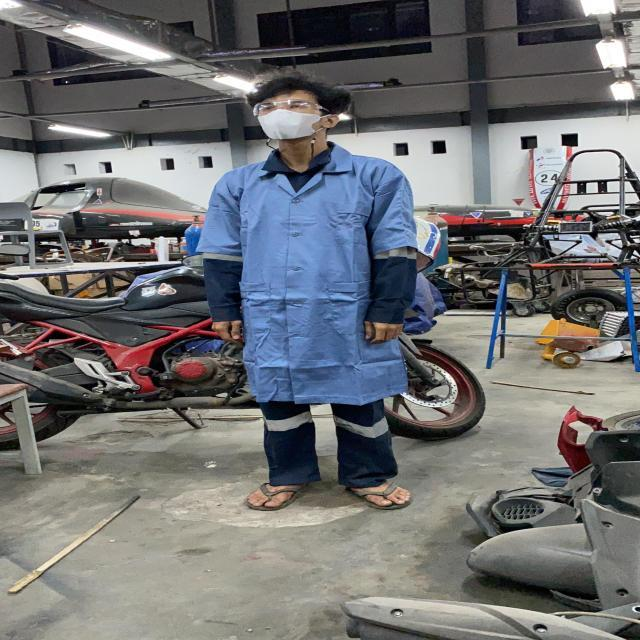glasses: (247, 97, 334, 116)
